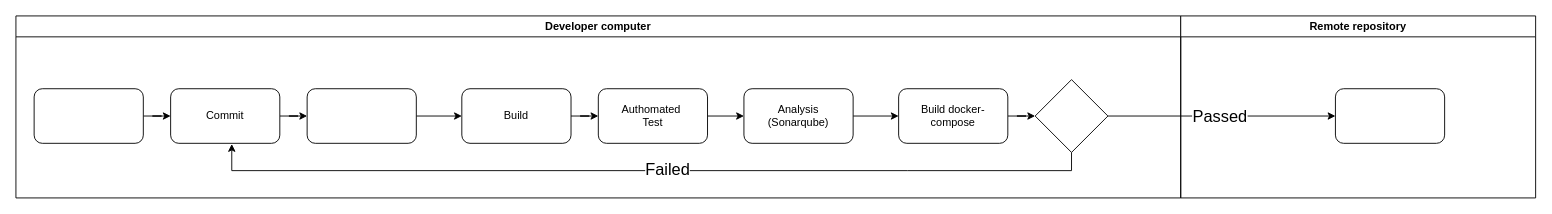
Image size: 1552x214. Some labels were removed from this diagram. Each missing label, with the centre of its shape:
"Code" goes at pixel 88 115.
"Push changes" goes at pixel 361 115.
"Storing" goes at pixel 1390 115.
